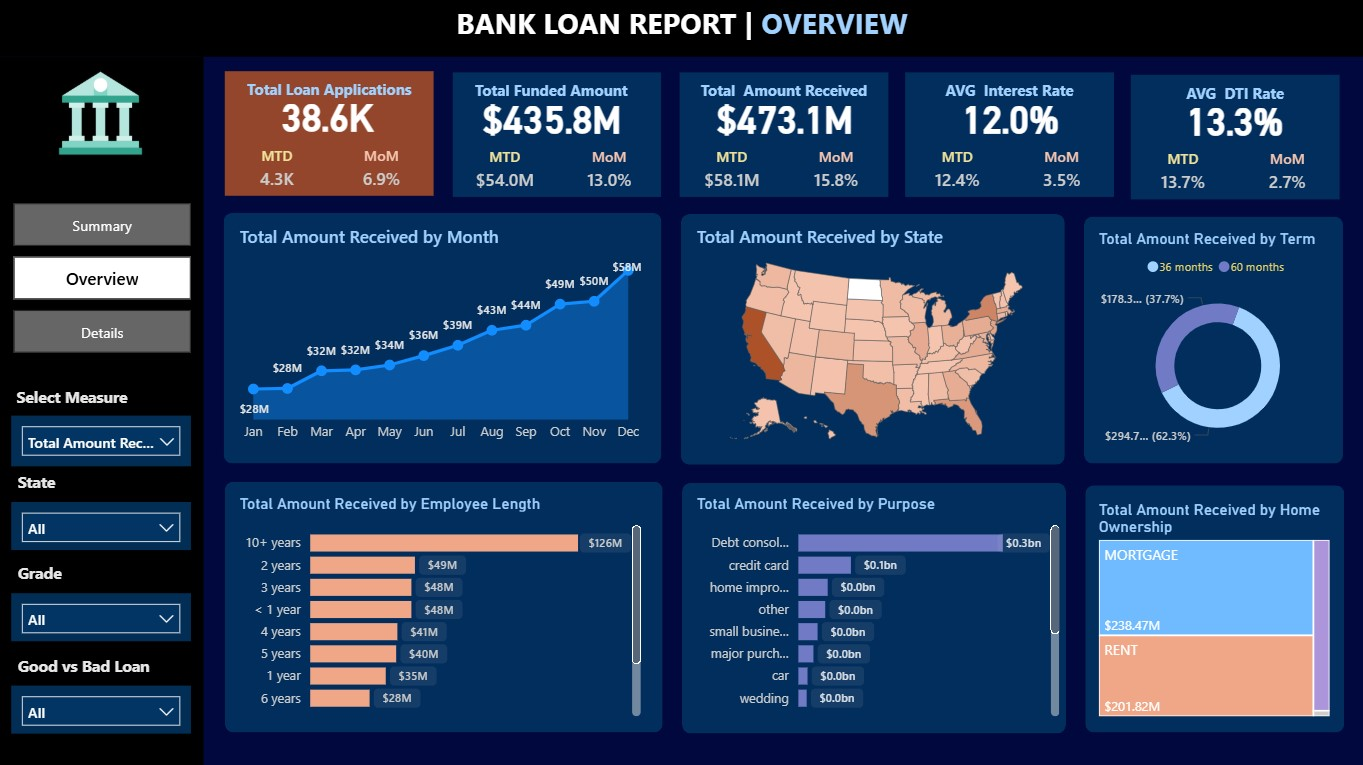

What the dashboard file says about the page in this screenshot:
{"tool":"powerbi","page":{"name":"Overview","canvas":[1280,720],"ordinal":1},"visuals":[{"type":"shape","box":[0,55.2,192.5,664.7],"z":0},{"type":"shape","box":[212.3,68.9,195.5,116.9],"z":0,"group":"g1"},{"type":"shape","box":[638.1,69.3,195.5,116.9],"z":0,"group":"g3"},{"type":"shape","box":[849.4,69.3,195.5,116.9],"z":0,"group":"g4"},{"type":"shape","box":[426.1,69.7,195.3,116.9],"z":0,"group":"g2"},{"type":"shape","box":[1060.7,71.5,195.5,116.9],"z":0,"group":"g5"},{"type":"card","fields":{"Values":["bank_loan_data.Total Loan Applications"]},"box":[211.2,79.8,194.4,58.4],"z":1000,"group":"g1"},{"type":"card","fields":{"Values":["bank_loan_data.AVG DTI"]},"box":[1062.5,82.7,190,58.9],"z":1000,"group":"g5"},{"type":"card","fields":{"Values":["bank_loan_data.Total Amount Received"]},"box":[640.1,83,192.2,56.7],"z":1000,"group":"g3"},{"type":"card","fields":{"Values":["bank_loan_data.AVG Interest Rate"]},"box":[853.7,83,187.8,56.7],"z":1000,"group":"g4"},{"type":"card","fields":{"Values":["bank_loan_data.Total Funded Amount"]},"box":[428.8,83.4,178.7,56.7],"z":1000,"group":"g2"},{"type":"shape","box":[211.3,201,410.2,234.9],"z":1000},{"type":"shape","box":[0,0,1280.6,55],"z":2000},{"type":"textbox","box":[212.3,71.1,195.5,33.7],"z":2000,"group":"g1"},{"type":"textbox","box":[638.1,71.5,195.5,33.7],"z":2000,"group":"g3"},{"type":"textbox","box":[849.4,71.5,195.5,33.7],"z":2000,"group":"g4"},{"type":"textbox","box":[428.8,72.3,177.6,33.3],"z":2000,"group":"g2"},{"type":"textbox","box":[1060.7,73.7,195.5,33.7],"z":2000,"group":"g5"},{"type":"textbox","box":[411.9,0,456.8,55.2],"z":3000},{"type":"card","title":"MTD","fields":{"Values":["bank_loan_data.MTD Loan Applications"]},"box":[212.1,138.9,97.8,42.7],"z":3000,"group":"g1"},{"type":"card","title":"MTD","fields":{"Values":["bank_loan_data.MTD Total Amount Received"]},"box":[637.9,139.3,97.8,42.7],"z":3000,"group":"g3"},{"type":"card","title":"MTD","fields":{"Values":["bank_loan_data.MTD AVG Interest Rate"]},"box":[849.2,139.3,97.8,42.7],"z":3000,"group":"g4"},{"type":"card","title":"MTD","fields":{"Values":["bank_loan_data.MTD Funded Amount"]},"box":[425.9,139.7,97.7,42.7],"z":3000,"group":"g2"},{"type":"card","title":"MTD","fields":{"Values":["bank_loan_data.MTD AVG DTI"]},"box":[1060.5,141.5,97.8,42.7],"z":3000,"group":"g5"},{"type":"group","id":"g1","title":"Group 1","box":[211.2,68.9,196.6,116.9],"z":4000},{"type":"card","title":"MoM","fields":{"Values":["bank_loan_data.MoM Loan Applications"]},"box":[309.8,138.9,97.8,42.7],"z":4000,"group":"g1"},{"type":"card","title":"MoM","fields":{"Values":["bank_loan_data.MoM Total Amount Received"]},"box":[735.7,139.3,97.8,42.7],"z":4000,"group":"g3"},{"type":"card","title":"MoM","fields":{"Values":["bank_loan_data.MoM AVG Interest Rate"]},"box":[947,139.3,97.8,42.7],"z":4000,"group":"g4"},{"type":"card","title":"MoM","fields":{"Values":["bank_loan_data.MoM Funded Amount"]},"box":[523.6,139.7,97.7,42.7],"z":4000,"group":"g2"},{"type":"card","title":"MoM","fields":{"Values":["bank_loan_data.MoM AVG DTI"]},"box":[1158.3,141.5,97.8,42.7],"z":4000,"group":"g5"},{"type":"group","id":"g2","title":"Group 1","box":[425.9,69.7,195.5,116.9],"z":5000},{"type":"group","id":"g3","title":"Group 1","box":[637.9,69.3,195.7,116.9],"z":6000},{"type":"group","id":"g4","title":"Group 1","box":[849.2,69.3,195.7,116.9],"z":7000},{"type":"group","id":"g5","title":"Group 1","box":[1060.5,71.5,195.7,116.9],"z":8000},{"type":"slicer","fields":{"Values":["bank_loan_data.address_state"]},"box":[12.4,471.7,168.1,44.9],"z":9000},{"type":"group","id":"g6","title":"Group 2","box":[12.4,523.6,168.1,78.3],"z":10000},{"type":"textbox","box":[13.6,438.4,166.8,33.4],"z":11000},{"type":"group","id":"g7","title":"Group 2","box":[12.4,610.3,168.1,78.3],"z":12000},{"type":"textbox","box":[11.9,358.6,167.4,32.6],"z":13000},{"type":"slicer","fields":{"Values":["Select Measure.Select Measure"]},"box":[11.9,391.2,168.6,47.2],"z":14000},{"type":"areaChart","fields":{"Y":["bank_loan_data.Total Amount Received"],"Category":["Date Table.Month"]},"box":[221.4,212.3,386.6,212.4],"z":15000},{"type":"shape","box":[639.4,202.2,359.6,234.9],"z":16000},{"type":"shapeMap","fields":{"Value":["bank_loan_data.Total Amount Received"],"Category":["bank_loan_data.address_state"]},"box":[649.5,212.4,346.1,214.6],"z":17000},{"type":"shape","box":[1017,204.5,242.7,231.5],"z":18000},{"type":"donutChart","fields":{"Y":["bank_loan_data.Total Amount Received"],"Category":["bank_loan_data.term"]},"box":[1026.6,217.1,232.6,212.4],"z":19000},{"type":"shape","box":[212.8,452.6,410.2,234.9],"z":20000},{"type":"shape","box":[641,453.8,359.6,234.9],"z":21000},{"type":"slicer","fields":{"Values":["bank_loan_data.grade"]},"box":[12.4,557,168.1,44.9],"z":21000,"group":"g6"},{"type":"slicer","fields":{"Values":["bank_loan_data.Good vs Bad Loan"]},"box":[12.4,643.7,168.1,44.9],"z":21000,"group":"g7"},{"type":"shape","box":[1018.6,456.1,242.7,231.5],"z":22000},{"type":"clusteredBarChart","fields":{"Y":["bank_loan_data.Total Amount Received"],"Category":["bank_loan_data.emp_length"]},"box":[221.4,465.2,385.5,212.4],"z":23000},{"type":"textbox","box":[13.7,523.6,166.8,33.4],"z":23000,"group":"g6"},{"type":"textbox","box":[13.7,610.3,166.8,33.4],"z":23000,"group":"g7"},{"type":"clusteredBarChart","fields":{"Y":["bank_loan_data.Total Amount Received"],"Category":["bank_loan_data.purpose"]},"box":[649.5,465.2,349.5,212.4],"z":24000},{"type":"treemap","fields":{"Values":["bank_loan_data.Total Amount Received"],"Group":["bank_loan_data.home_ownership"]},"box":[1026,470.9,225.9,206.8],"z":25000},{"type":"pageNavigator","box":[14.6,192,166.3,140.5],"z":26000},{"type":"image","box":[39.3,56.1,113.5,103.4],"z":27000}]}

Visuals, with their boxes in screenshot pixels (x1, y1, x2, y2), scaled from the page's 1280x720 canvas onto the 1363x765 screenshot:
shape: 0:59:205:764
shape: 226:73:434:197
shape: 679:74:888:198
shape: 904:74:1113:198
shape: 454:74:662:198
shape: 1129:76:1338:200
card - bank_loan_data.Total Loan Applications: 225:85:432:147
card - bank_loan_data.AVG DTI: 1131:88:1334:150
card - bank_loan_data.Total Amount Received: 682:88:886:148
card - bank_loan_data.AVG Interest Rate: 909:88:1109:148
card - bank_loan_data.Total Funded Amount: 457:89:647:149
shape: 225:214:662:463
shape: 0:0:1362:58
textbox: 226:76:434:111
textbox: 679:76:888:112
textbox: 904:76:1113:112
textbox: 457:77:646:112
textbox: 1129:78:1338:114
textbox: 439:0:925:59
"MTD" card: 226:148:330:193
"MTD" card: 679:148:783:193
"MTD" card: 904:148:1008:193
"MTD" card: 454:148:558:194
"MTD" card: 1129:150:1233:196
"Group 1" group: 225:73:434:197
"MoM" card: 330:148:434:193
"MoM" card: 783:148:888:193
"MoM" card: 1008:148:1113:193
"MoM" card: 558:148:662:194
"MoM" card: 1233:150:1338:196
"Group 1" group: 454:74:662:198
"Group 1" group: 679:74:888:198
"Group 1" group: 904:74:1113:198
"Group 1" group: 1129:76:1338:200
slicer - bank_loan_data.address_state: 13:501:192:549
"Group 2" group: 13:556:192:640
textbox: 14:466:192:501
"Group 2" group: 13:648:192:732
textbox: 13:381:191:416
slicer - Select Measure.Select Measure: 13:416:192:466
areaChart - bank_loan_data.Total Amount Received x Date Table.Month: 236:226:647:451
shape: 681:215:1064:464
shapeMap - bank_loan_data.Total Amount Received x bank_loan_data.address_state: 692:226:1060:454
shape: 1083:217:1341:463
donutChart - bank_loan_data.Total Amount Received x bank_loan_data.term: 1093:231:1341:456
shape: 227:481:663:730
shape: 683:482:1065:732
slicer - bank_loan_data.grade: 13:592:192:640
slicer - bank_loan_data.Good vs Bad Loan: 13:684:192:732
shape: 1085:485:1343:731
clusteredBarChart - bank_loan_data.Total Amount Received x bank_loan_data.emp_length: 236:494:646:720
textbox: 15:556:192:592
textbox: 15:648:192:684
clusteredBarChart - bank_loan_data.Total Amount Received x bank_loan_data.purpose: 692:494:1064:720
treemap - bank_loan_data.Total Amount Received x bank_loan_data.home_ownership: 1093:500:1333:720
pageNavigator: 16:204:193:353
image: 42:60:163:169
